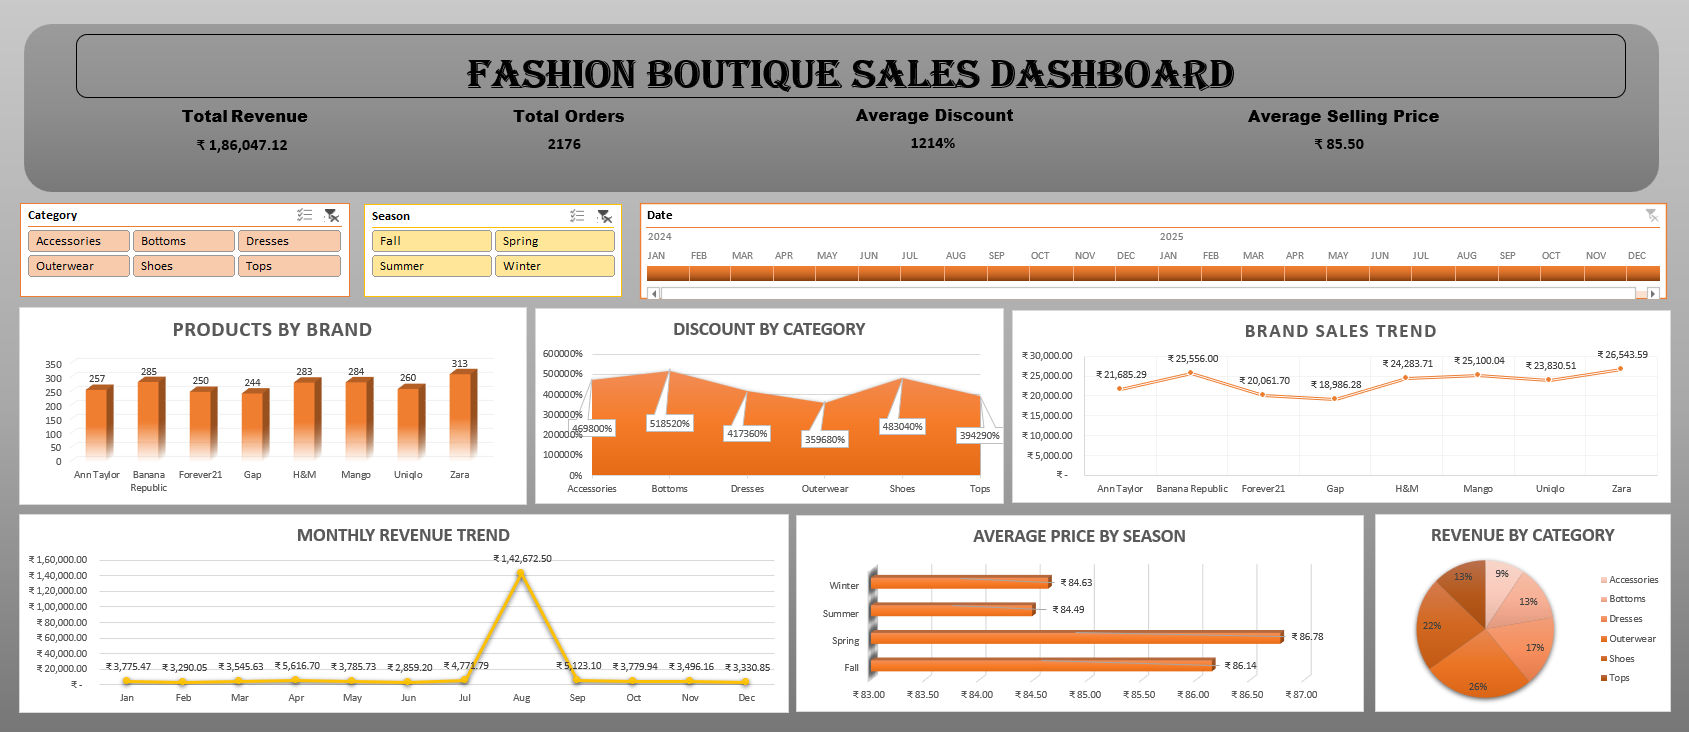

This screenshot's page, from the dashboard's own definition file:
{"tool":"powerbi","page":{"name":"Page 1","canvas":[1280,720],"ordinal":0},"visuals":[{"type":"shape","box":[128.6,187.1,398.6,274.3],"z":0},{"type":"shape","box":[128.6,461.4,580,245.7],"z":1000},{"type":"shape","box":[708.6,461.4,564.3,241.4],"z":2000},{"type":"shape","box":[520,187.1,377.1,274.3],"z":3000},{"type":"shape","box":[897.1,187.1,365.7,274.3],"z":4000},{"type":"shape","box":[965.7,78.6,297.1,108.6],"z":5000},{"type":"shape","box":[640,77.1,304.3,110],"z":6000},{"type":"shape","box":[325.7,78.6,295.7,112.9],"z":7000},{"type":"shape","box":[0,78.6,300,112.9],"z":8000},{"type":"pieChart","title":"REVENUE BY CATEGORY","fields":{"Y":["Sum(fashion_cleaned (2).current_price)"],"Category":["fashion_cleaned (2).category"]},"box":[848.6,202.9,400,281.4],"z":9000},{"type":"columnChart","title":"PRODUCTS BY BRAND","fields":{"Category":["fashion_cleaned (2).brand"],"Y":["CountNonNull(fashion_cleaned (2).product_id)"]},"box":[534.3,208.6,362.9,228.6],"z":10000},{"type":"barChart","title":"DISCOUNT BY CATEGORY","fields":{"Category":["fashion_cleaned (2).category"],"Y":["Sum(fashion_cleaned (2).markdown_percentage)"]},"box":[138.6,202.9,395.7,241.4],"z":11000},{"type":"lineChart","title":"MONTHLY REVENUE TREND","fields":{"Y":["Sum(fashion_cleaned (2).current_price)"],"Category":["fashion_cleaned (2).purchase_date.Variation.Date Hierarchy.Month"]},"box":[734.3,480,514.3,200],"z":12000},{"type":"lineChart","title":"BRAND SALES TREND","fields":{"Category":["fashion_cleaned (2).brand"],"Y":["Sum(fashion_cleaned (2).current_price)"]},"box":[138.6,480,554.3,215.7],"z":13000},{"type":"shape","box":[0,198.6,138.6,141.4],"z":14000},{"type":"slicer","title":"MONTH","fields":{"Values":["fashion_cleaned (2).Month"]},"box":[12.9,224.3,114.3,75.7],"z":15000},{"type":"shape","box":[0,358.6,138.6,140],"z":16000},{"type":"slicer","title":"CATEGORY","fields":{"Values":["fashion_cleaned (2).category"]},"box":[17.1,379.1,105.7,98.6],"z":17000},{"type":"shape","box":[0,544.3,138.6,151.4],"z":18000},{"type":"slicer","title":"SEASON","fields":{"Values":["fashion_cleaned (2).season"]},"box":[12.9,580,115.7,98.6],"z":19000},{"type":"cardVisual","title":"Total Revenue","fields":{"Data":["Sum(fashion_cleaned (2).current_price)"]},"box":[0,92.9,300,110],"z":20000},{"type":"cardVisual","title":"Total Orders","fields":{"Data":["CountNonNull(fashion_cleaned (2).product_id)"]},"box":[321.4,92.9,300,98.6],"z":21000},{"type":"cardVisual","title":"Average Discount","fields":{"Data":["Avg(fashion_cleaned (2).markdown_percentage)"]},"box":[644.3,90,300,101.4],"z":22000},{"type":"cardVisual","title":"Average Selling Price","fields":{"Data":["Avg(fashion_cleaned (2).current_price)"]},"box":[965.7,90,300,105.7],"z":23000},{"type":"textbox","box":[17.1,17.1,1231.4,61.4],"z":24000}]}

Visuals, with their boxes on the page's 1280x720 design canvas (x1, y1, x2, y2). These are canvas units, not pixel positions in the 1689x732 screenshot, which may show the page scaled, cropped or inside an application window:
shape: <box>129,187,527,461</box>
shape: <box>129,461,709,707</box>
shape: <box>709,461,1273,703</box>
shape: <box>520,187,897,461</box>
shape: <box>897,187,1263,461</box>
shape: <box>966,79,1263,187</box>
shape: <box>640,77,944,187</box>
shape: <box>326,79,621,192</box>
shape: <box>0,79,300,192</box>
"REVENUE BY CATEGORY" pieChart: <box>849,203,1249,484</box>
"PRODUCTS BY BRAND" columnChart: <box>534,209,897,437</box>
"DISCOUNT BY CATEGORY" barChart: <box>139,203,534,444</box>
"MONTHLY REVENUE TREND" lineChart: <box>734,480,1249,680</box>
"BRAND SALES TREND" lineChart: <box>139,480,693,696</box>
shape: <box>0,199,139,340</box>
"MONTH" slicer: <box>13,224,127,300</box>
shape: <box>0,359,139,499</box>
"CATEGORY" slicer: <box>17,379,123,478</box>
shape: <box>0,544,139,696</box>
"SEASON" slicer: <box>13,580,129,679</box>
"Total Revenue" cardVisual: <box>0,93,300,203</box>
"Total Orders" cardVisual: <box>321,93,621,192</box>
"Average Discount" cardVisual: <box>644,90,944,191</box>
"Average Selling Price" cardVisual: <box>966,90,1266,196</box>
textbox: <box>17,17,1248,78</box>
